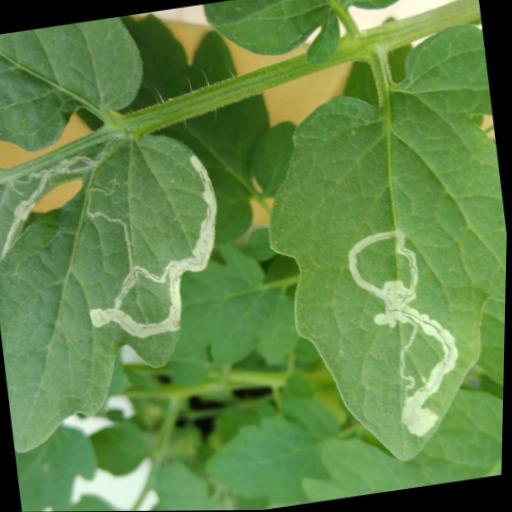Leaf_Miner: (233, 18, 512, 491), (0, 119, 247, 396)
